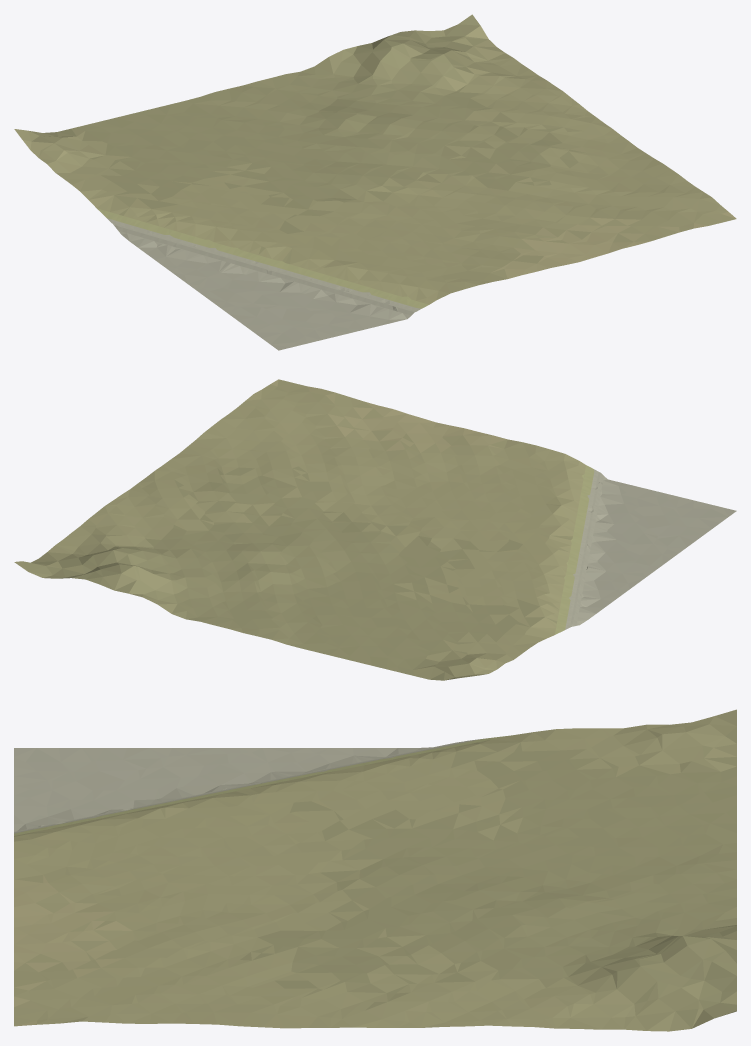
The model's file is Ground_-6_-8.glb.
The picture shows the model from 3 angles, top to bottom: view 1: azimuth 30°, elevation 25°; view 2: azimuth 150°, elevation 25°; view 3: azimuth 270°, elevation 25°; orthographic projection. The views are drawn at different scales.
Visible parts, largest first — view 1: Ground_-6_-8; view 2: Ground_-6_-8; view 3: Ground_-6_-8.
Boxes of the visible parts, bbox=[...] form: Ground_-6_-8: bbox=[14, 14, 736, 350]; Ground_-6_-8: bbox=[14, 379, 736, 680]; Ground_-6_-8: bbox=[14, 709, 736, 1031].
Bounding box in the file's own units: 768 × 59.21 × 768.
